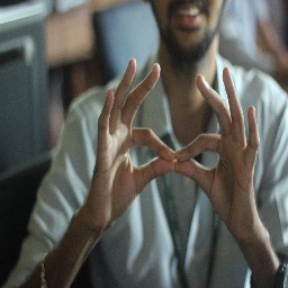B: (106, 102, 252, 202)
